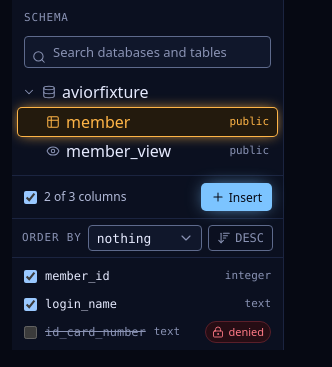
Test case: SchemaTree › says so when nothing matches
Type "zzz" into the search field with placeholder "Search databases and tables" at (148,52), box [24,36,271,68]
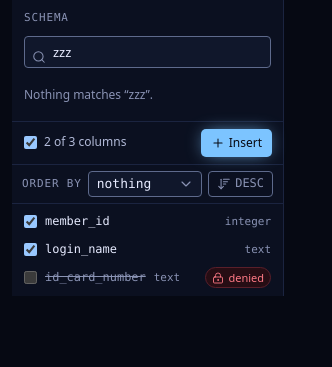
Check: the text "Nothing matches" is shown, box [24,86,153,103]
